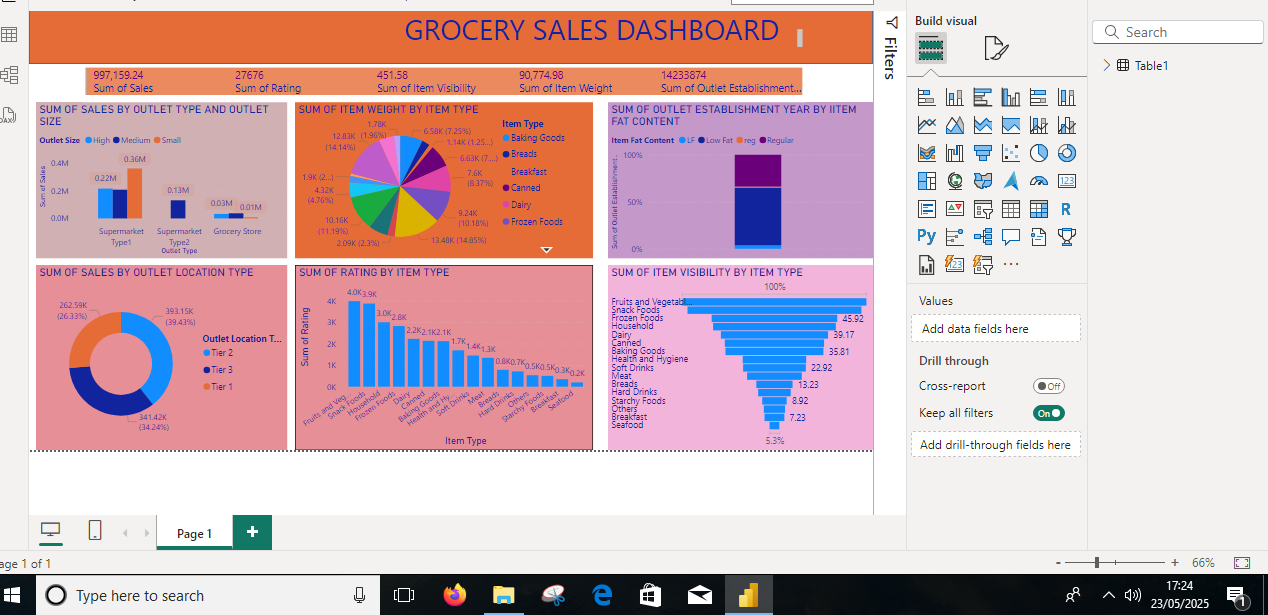

This screenshot's page, from the dashboard's own definition file:
{"tool":"powerbi","page":{"name":"Page 1","canvas":[1280,720],"ordinal":0},"visuals":[{"type":"donutChart","title":"SUM OF SALES BY OUTLET LOCATION TYPE","fields":{"Category":["Table1.Outlet Location Type"],"Y":["Sum(Table1.Sales)"]},"box":[10.6,439.8,380.7,280.6],"z":0},{"type":"columnChart","title":"SUM OF RATING BY ITEM TYPE","fields":{"Y":["Sum(Table1.Rating)"],"Category":["Table1.Item Type"]},"box":[403.4,439.8,451.9,280.6],"z":1000},{"type":"clusteredColumnChart","title":"SUM OF SALES BY OUTLET TYPE AND OUTLET SIZE","fields":{"Y":["Sum(Table1.Sales)"],"Category":["Table1.Outlet Type"],"Series":["Table1.Outlet Size"]},"box":[10.6,192.6,380.7,236.6],"z":2000},{"type":"pieChart","title":"SUM OF ITEM WEIGHT BY ITEM TYPE","fields":{"Y":["Sum(Table1.Item Weight)"],"Series":["Table1.Item Type"]},"box":[403.4,192.6,451.9,236.6],"z":3000},{"type":"shape","box":[0,0,1280,135],"z":4000},{"type":"funnel","title":"SUM OF ITEM VISIBILITY BY ITEM TYPE","fields":{"Y":["Sum(Table1.Item Visibility)"],"Category":["Table1.Item Type"]},"box":[878.1,439.8,401.9,280.6],"z":5000},{"type":"hundredPercentStackedColumnChart","title":"SUM OF OUTLET ESTABLISHMENT YEAR BY IITEM FAT CONTENT","fields":{"Y":["Sum(Table1.Outlet Establishment Year)"],"Series":["Table1.Item Fat Content"]},"box":[878.1,192.6,401.9,236.6],"z":6000},{"type":"multiRowCard","fields":{"Values":["Sum(Table1.Sales)","Sum(Table1.Rating)","Sum(Table1.Item Visibility)","Sum(Table1.Item Weight)","Sum(Table1.Outlet Establishment Year)"]},"box":[80.4,135,1098,57.6],"z":7000},{"type":"textbox","box":[564.2,18.2,614.2,95.5],"z":8000}]}

Visuals, with their boxes on the page's 1280x720 design canvas (x1, y1, x2, y2). These are canvas units, not pixel positions in the 1268x615 screenshot, which may show the page scaled, cropped or inside an application window:
"SUM OF SALES BY OUTLET LOCATION TYPE" donutChart: (11,440,391,720)
"SUM OF RATING BY ITEM TYPE" columnChart: (403,440,855,720)
"SUM OF SALES BY OUTLET TYPE AND OUTLET SIZE" clusteredColumnChart: (11,193,391,429)
"SUM OF ITEM WEIGHT BY ITEM TYPE" pieChart: (403,193,855,429)
shape: (0,0,1280,135)
"SUM OF ITEM VISIBILITY BY ITEM TYPE" funnel: (878,440,1280,720)
"SUM OF OUTLET ESTABLISHMENT YEAR BY IITEM FAT CONTENT" hundredPercentStackedColumnChart: (878,193,1280,429)
multiRowCard - Sum(Table1.Sales) x Sum(Table1.Rating): (80,135,1178,193)
textbox: (564,18,1178,114)
